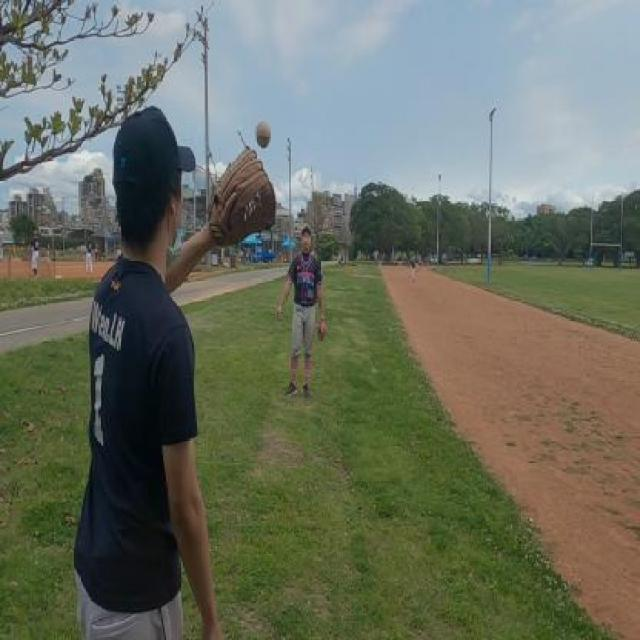baseball: (255, 120, 271, 149)
